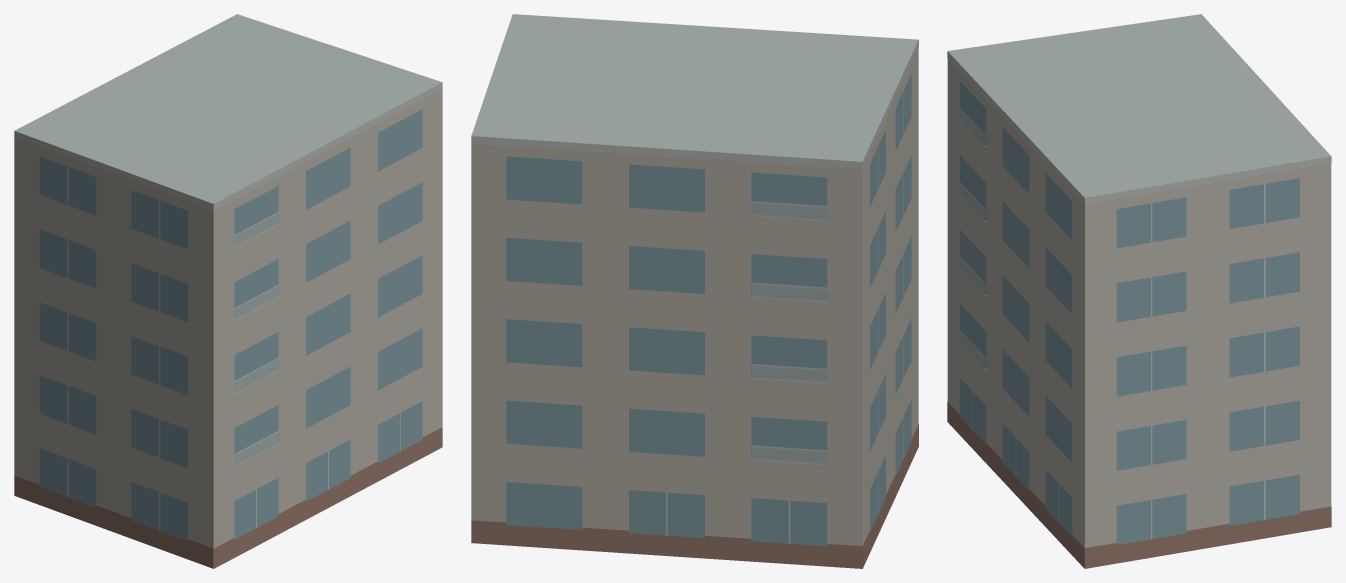
Rendered from survey-upis-32834960.glb.
3 renders of one model, left to right at view 1: azimuth 30°, elevation 25°; view 2: azimuth 150°, elevation 25°; view 3: azimuth 270°, elevation 25°, orthographic. The views are drawn at different scales.
Visible parts, largest first — view 1: survey-upis-32834960.tmp; view 2: survey-upis-32834960.tmp; view 3: survey-upis-32834960.tmp.
Boxes of the visible parts, box(x1,y1,x2,y2) form: survey-upis-32834960.tmp: box(14, 14, 442, 568); survey-upis-32834960.tmp: box(471, 14, 918, 568); survey-upis-32834960.tmp: box(947, 14, 1331, 568).
Bounding box in the file's own units: 14.06 × 13.2 × 12.39.
